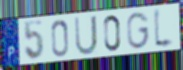0: (50, 18, 70, 58), (103, 14, 121, 52)
5: (22, 19, 46, 62)
G: (126, 11, 151, 50)
L: (153, 6, 176, 51)
U: (73, 14, 99, 57)
